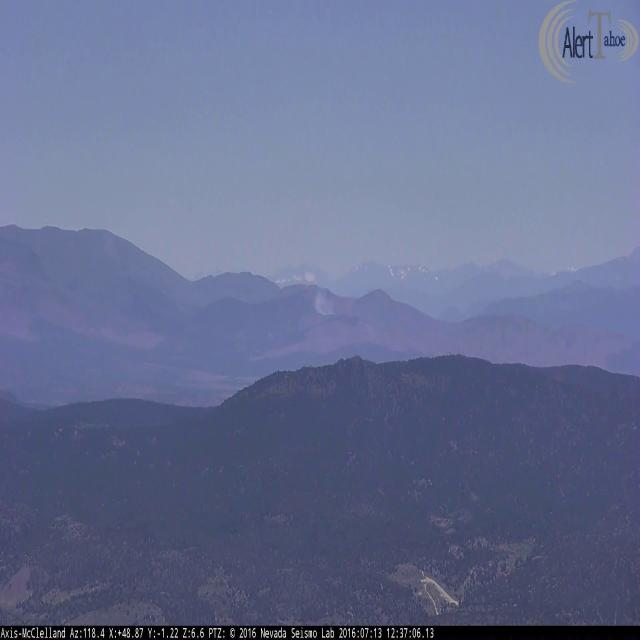smoke: (313, 287, 334, 315)
